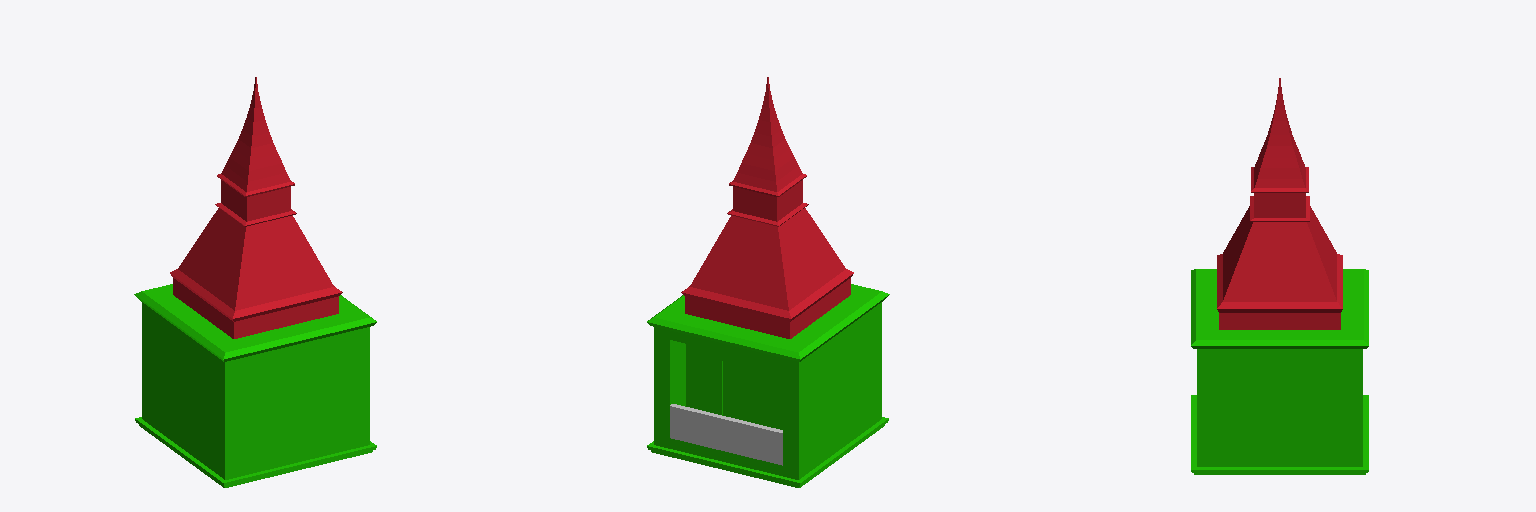
The model's file is tower2.obj.
3 renders of one model, left to right at view 1: azimuth 30°, elevation 25°; view 2: azimuth 150°, elevation 25°; view 3: azimuth 270°, elevation 25°, orthographic.
Visible parts, largest first — view 1: Plane; view 2: Plane; view 3: Plane.
Boxes of the visible parts, <box> form: Plane: <box>134,77,376,487</box>; Plane: <box>647,77,889,487</box>; Plane: <box>1191,78,1368,474</box>.
Bounding box in the file's own units: 3.11 × 7.05 × 3.11.